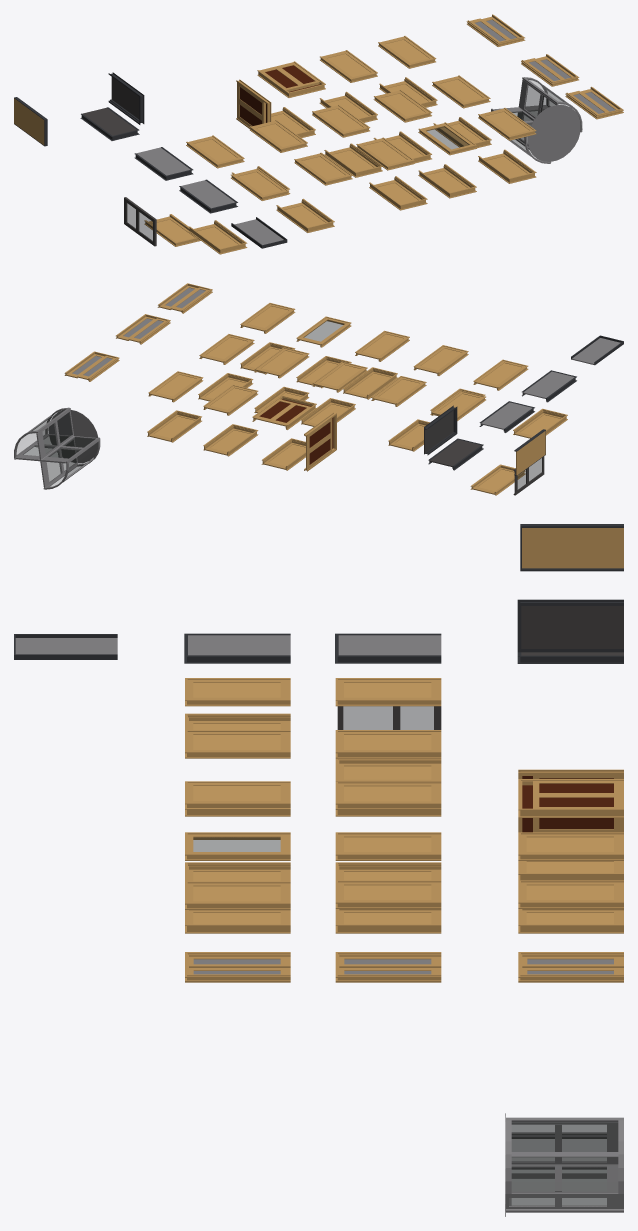
File: IfcDoors.obj
3 views of the same model, one above another, from view 1: azimuth 30°, elevation 25°; view 2: azimuth 150°, elevation 25°; view 3: azimuth 270°, elevation 25° (orthographic). The views are drawn at different scales.
Parts seen in each view (by area): view 1: 1LXas2$fTBdez3FvyIu3_4, 2Vq6Wz_0H15h$aF_4doFGE, 22isYVYon2YOlmQrlJlZsB, 3zl6Lo8Hb0s8veVL8qI1Gl, 1_ApkemlT68wHWhMfeYLei, 1LtD4fJEz9Qfq_x7Axe1DW, 10kbk3StH90QAJaDI4b6gp, 04cTf_u$19_gRMz3R_zTKI, 2zRvhF7Pv9bQH2MAYl9EJG, 2$Y7TOWhfA6QNnq3M$eKDJ, 1DC8YUvpnDjPtzLIEmzD5z, 2qBtebJMTEh9v$dk4wvrW5 (+25 smaller); view 2: 1LXas2$fTBdez3FvyIu3_4, 22isYVYon2YOlmQrlJlZsB, 2Vq6Wz_0H15h$aF_4doFGE, 3zl6Lo8Hb0s8veVL8qI1Gl, 0pmGuDFKz2KfKk6vSWpAO9, 3C$YfIX8P02v2aszsXd2ym, 1DC8YUvpnDjPtzLIEmzD5z, 1_ApkemlT68wHWhMfeYLei, 10kbk3StH90QAJaDI4b6gp, 1LtD4fJEz9Qfq_x7Axe1DW, 1uarWbjTH0j8CevvmtN4dv, 0I8QkwmHT2xxxxndw0rcJK (+25 smaller); view 3: 1LXas2$fTBdez3FvyIu3_4, 3zl6Lo8Hb0s8veVL8qI1Gl, 0HYpCaVVD1uOWvsG7Uz4J4, 2Vq6Wz_0H15h$aF_4doFGE, 10kbk3StH90QAJaDI4b6gp, 1LtD4fJEz9Qfq_x7Axe1DW, 2ydKbz2RT2dA3aHfVYv0X2, 1r76g0GSjBM8mT8mH3y9Xe, 1TmPW$6SfALvKbHmBVrxyF, 2vXC00p75CRw9cncmhUzkP, 2eVJZ6LlD1_9fAkL5BaJEl, 0cksUmi1PBtgT$C0h7AGyD (+21 smaller).
Boxes of the visible parts, <box> form: 1LXas2$fTBdez3FvyIu3_4: <box>491,77,582,163</box>; 2Vq6Wz_0H15h$aF_4doFGE: <box>257,61,325,97</box>; 22isYVYon2YOlmQrlJlZsB: <box>236,79,271,129</box>; 3zl6Lo8Hb0s8veVL8qI1Gl: <box>108,72,144,124</box>; 1_ApkemlT68wHWhMfeYLei: <box>80,107,139,140</box>; 1LtD4fJEz9Qfq_x7Axe1DW: <box>134,147,193,180</box>; 10kbk3StH90QAJaDI4b6gp: <box>179,179,237,213</box>; 04cTf_u$19_gRMz3R_zTKI: <box>418,164,476,198</box>; 2zRvhF7Pv9bQH2MAYl9EJG: <box>189,220,247,254</box>; 2$Y7TOWhfA6QNnq3M$eKDJ: <box>276,198,334,232</box>; 1DC8YUvpnDjPtzLIEmzD5z: <box>369,176,427,210</box>; 2qBtebJMTEh9v$dk4wvrW5: <box>478,149,536,183</box>; 1LXas2$fTBdez3FvyIu3_4: <box>14,407,100,489</box>; 22isYVYon2YOlmQrlJlZsB: <box>304,412,336,471</box>; 2Vq6Wz_0H15h$aF_4doFGE: <box>252,395,316,429</box>; 3zl6Lo8Hb0s8veVL8qI1Gl: <box>424,405,457,455</box>; 0pmGuDFKz2KfKk6vSWpAO9: <box>203,424,258,456</box>; 3C$YfIX8P02v2aszsXd2ym: <box>147,410,201,442</box>; 1DC8YUvpnDjPtzLIEmzD5z: <box>343,367,397,399</box>; 1_ApkemlT68wHWhMfeYLei: <box>428,438,483,470</box>; 10kbk3StH90QAJaDI4b6gp: <box>522,370,576,402</box>; 1LtD4fJEz9Qfq_x7Axe1DW: <box>479,401,534,432</box>; 1uarWbjTH0j8CevvmtN4dv: <box>148,371,203,402</box>; 0I8QkwmHT2xxxxndw0rcJK: <box>296,316,351,347</box>; 1LXas2$fTBdez3FvyIu3_4: <box>505,1113,623,1216</box>; 3zl6Lo8Hb0s8veVL8qI1Gl: <box>517,599,623,652</box>; 0HYpCaVVD1uOWvsG7Uz4J4: <box>520,524,623,571</box>; 2Vq6Wz_0H15h$aF_4doFGE: <box>518,779,623,817</box>; 10kbk3StH90QAJaDI4b6gp: <box>184,633,290,663</box>; 1LtD4fJEz9Qfq_x7Axe1DW: <box>335,633,441,663</box>; 2ydKbz2RT2dA3aHfVYv0X2: <box>335,880,441,908</box>; 1r76g0GSjBM8mT8mH3y9Xe: <box>335,832,441,860</box>; 1TmPW$6SfALvKbHmBVrxyF: <box>335,781,441,809</box>; 2vXC00p75CRw9cncmhUzkP: <box>335,730,441,758</box>; 2eVJZ6LlD1_9fAkL5BaJEl: <box>335,678,441,706</box>; 0cksUmi1PBtgT$C0h7AGyD: <box>518,832,623,860</box>.
Bounding box in the file's own units: 21.04 × 6.2 × 12.35.
